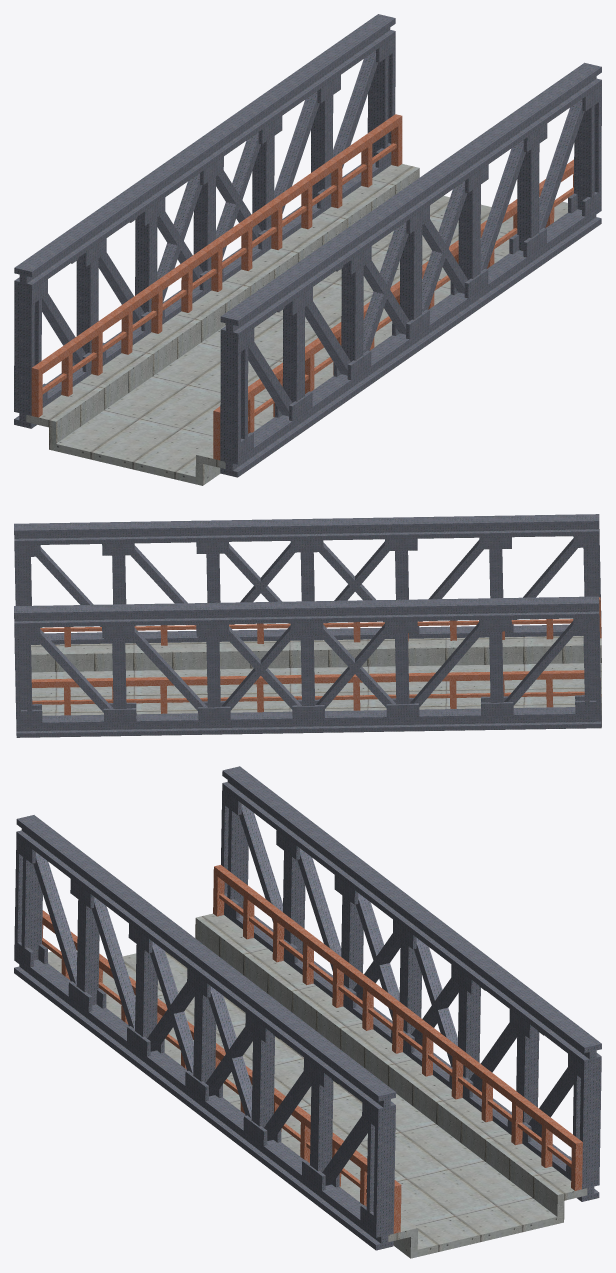
Rendered from GMLID_BUI51891_765_738.dae.
3 renders of one model, top to bottom at view 1: azimuth 30°, elevation 25°; view 2: azimuth 150°, elevation 25°; view 3: azimuth 270°, elevation 25°, orthographic. The views are drawn at different scales.
Size of the model in its own units: 34.59 by 26.81 by 9.31.
3 materials, 3 textured.
